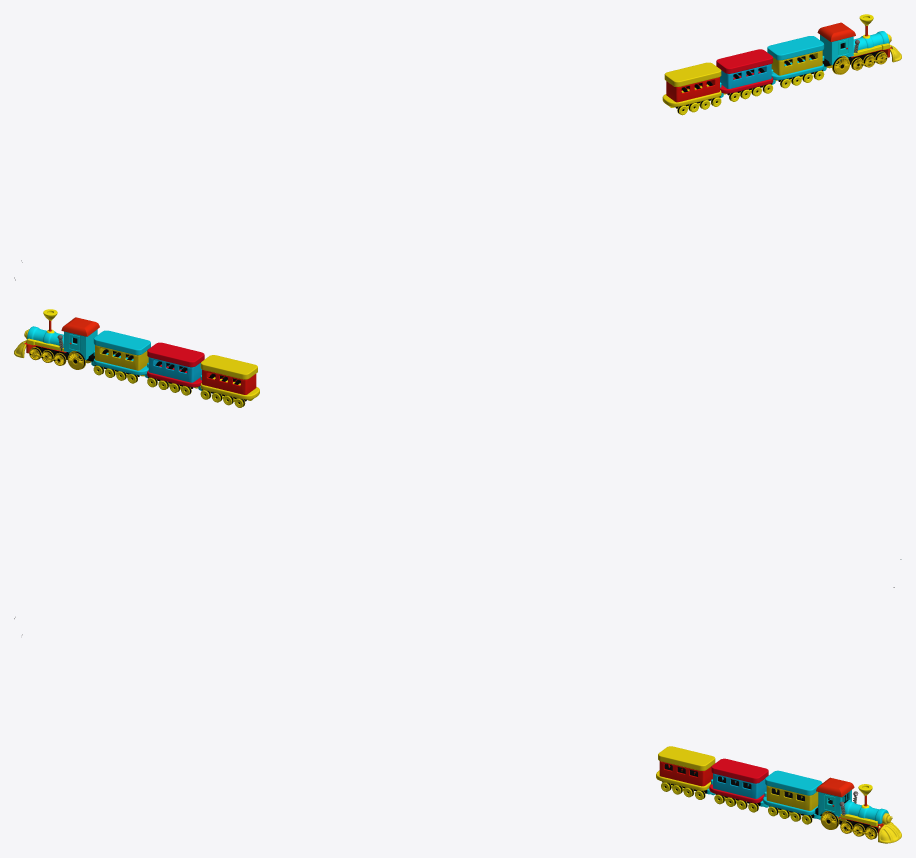
Rendered from poppy_playtime_chapter_2_train.glb.
3 renders of one model, top to bottom at view 1: azimuth 30°, elevation 25°; view 2: azimuth 150°, elevation 25°; view 3: azimuth 330°, elevation 25°, orthographic.
Visible parts, largest first — view 1: train_polySurface44.002_Blue_Plastic.009_0, train_polySurface44.001_Blue_Plastic.009_0, train_polySurface44_Blue_Plastic.009_0, train_polySurface38_Blue_Plastic.007_0_WorldGridMaterial.057, train_polySurface44.002_Blue_Plastic.010_0_Blue_Plastic.010_, train_polySurface44.001_Blue_Plastic.010_0, train_polySurface44_Blue_Plastic.010_0, train_pasted__fullmodel_separated1_pSphere97_Yellow_Plastic_, train_polySurface38_Red_Plastic.004_0; view 2: train_polySurface44.002_Blue_Plastic.009_0, train_polySurface44_Blue_Plastic.009_0, train_polySurface44.001_Blue_Plastic.009_0, train_polySurface38_Blue_Plastic.007_0_WorldGridMaterial.057, train_polySurface44.002_Blue_Plastic.010_0_Blue_Plastic.010_, train_polySurface44.001_Blue_Plastic.010_0, train_polySurface44_Blue_Plastic.010_0, train_pasted__fullmodel_separated1_pSphere97_Yellow_Plastic_, train_polySurface38_Red_Plastic.004_0; view 3: train_polySurface44.001_Blue_Plastic.009_0, train_polySurface44.002_Blue_Plastic.009_0, train_polySurface44_Blue_Plastic.009_0, train_polySurface38_Blue_Plastic.007_0_WorldGridMaterial.057, train_polySurface44.002_Blue_Plastic.010_0_Blue_Plastic.010_, train_polySurface44_Blue_Plastic.010_0, train_polySurface44.001_Blue_Plastic.010_0, train_pasted__fullmodel_separated1_pSphere97_Yellow_Plastic_, train_polySurface38_Red_Plastic.004_0, train_polySurface38_Yellow_Plastic.001_0_Yellow_Plastic.001_.
Boxes of the visible parts, left/top/right/bottom form: train_polySurface44.002_Blue_Plastic.009_0: left=662, top=62, right=721, bottom=106; train_polySurface44.001_Blue_Plastic.009_0: left=716, top=49, right=773, bottom=93; train_polySurface44_Blue_Plastic.009_0: left=767, top=36, right=824, bottom=80; train_polySurface38_Blue_Plastic.007_0_WorldGridMaterial.057: left=820, top=31, right=889, bottom=65; train_polySurface44.002_Blue_Plastic.010_0_Blue_Plastic.010_: left=666, top=77, right=719, bottom=102; train_polySurface44.001_Blue_Plastic.010_0: left=720, top=64, right=771, bottom=88; train_polySurface44_Blue_Plastic.010_0: left=771, top=50, right=822, bottom=75; train_pasted__fullmodel_separated1_pSphere97_Yellow_Plastic_: left=826, top=51, right=887, bottom=74; train_polySurface38_Red_Plastic.004_0: left=817, top=22, right=889, bottom=57; train_polySurface44.002_Blue_Plastic.009_0: left=200, top=355, right=259, bottom=399; train_polySurface44_Blue_Plastic.009_0: left=93, top=330, right=150, bottom=375; train_polySurface44.001_Blue_Plastic.009_0: left=147, top=342, right=204, bottom=387; train_polySurface38_Blue_Plastic.007_0_WorldGridMaterial.057: left=27, top=326, right=97, bottom=359; train_polySurface44.002_Blue_Plastic.010_0_Blue_Plastic.010_: left=202, top=369, right=256, bottom=394; train_polySurface44.001_Blue_Plastic.010_0: left=148, top=357, right=201, bottom=382; train_polySurface44_Blue_Plastic.010_0: left=95, top=345, right=148, bottom=370; train_pasted__fullmodel_separated1_pSphere97_Yellow_Plastic_: left=29, top=347, right=91, bottom=369; train_polySurface38_Red_Plastic.004_0: left=26, top=317, right=99, bottom=353; train_polySurface44.001_Blue_Plastic.009_0: left=709, top=758, right=768, bottom=803; train_polySurface44.002_Blue_Plastic.009_0: left=656, top=746, right=715, bottom=790; train_polySurface44_Blue_Plastic.009_0: left=763, top=770, right=822, bottom=815; train_polySurface38_Blue_Plastic.007_0_WorldGridMaterial.057: left=818, top=790, right=888, bottom=823; train_polySurface44.002_Blue_Plastic.010_0_Blue_Plastic.010_: left=659, top=761, right=712, bottom=786; train_polySurface44_Blue_Plastic.010_0: left=766, top=785, right=818, bottom=810; train_polySurface44.001_Blue_Plastic.010_0: left=713, top=773, right=766, bottom=798; train_pasted__fullmodel_separated1_pSphere97_Yellow_Plastic_: left=820, top=811, right=877, bottom=839; train_polySurface38_Red_Plastic.004_0: left=816, top=777, right=884, bottom=835; train_polySurface38_Yellow_Plastic.001_0_Yellow_Plastic.001_: left=860, top=790, right=901, bottom=843.
Size of the model in its own units: 285 by 19.37 by 9.52.
